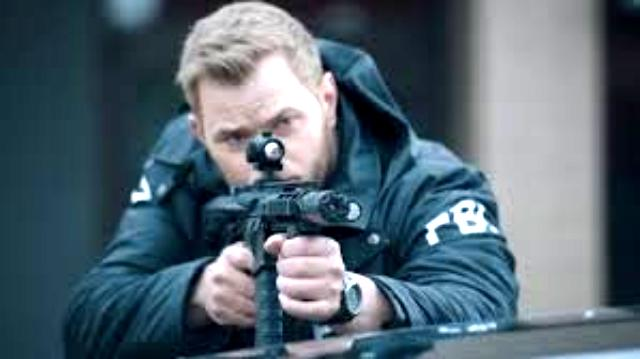rifle: (200, 135, 366, 359)
